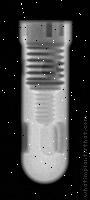Camlog: (16, 21, 73, 185)
